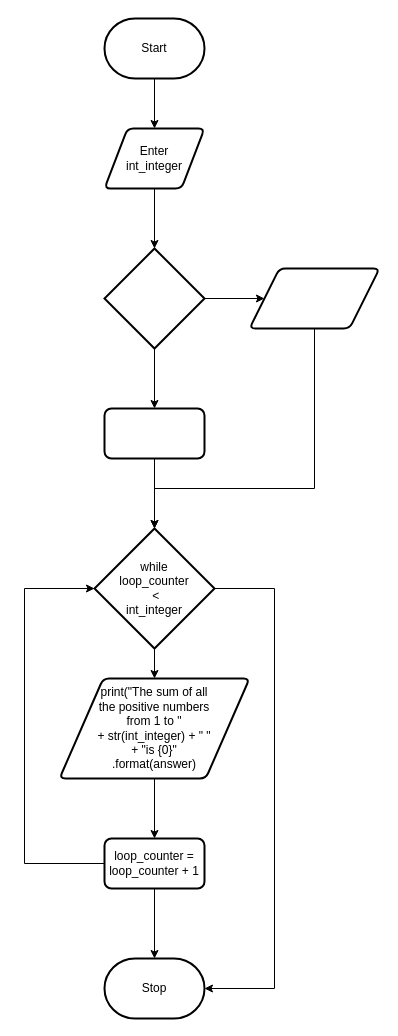
Image size: 398x1036. Some labels were removed from this diagram. The centre of each missing label's shape, as x and y in pixels:
convert string to int: the point at 154,433
print("That was not a valid input."): the point at 314,298
try: the point at 154,298
